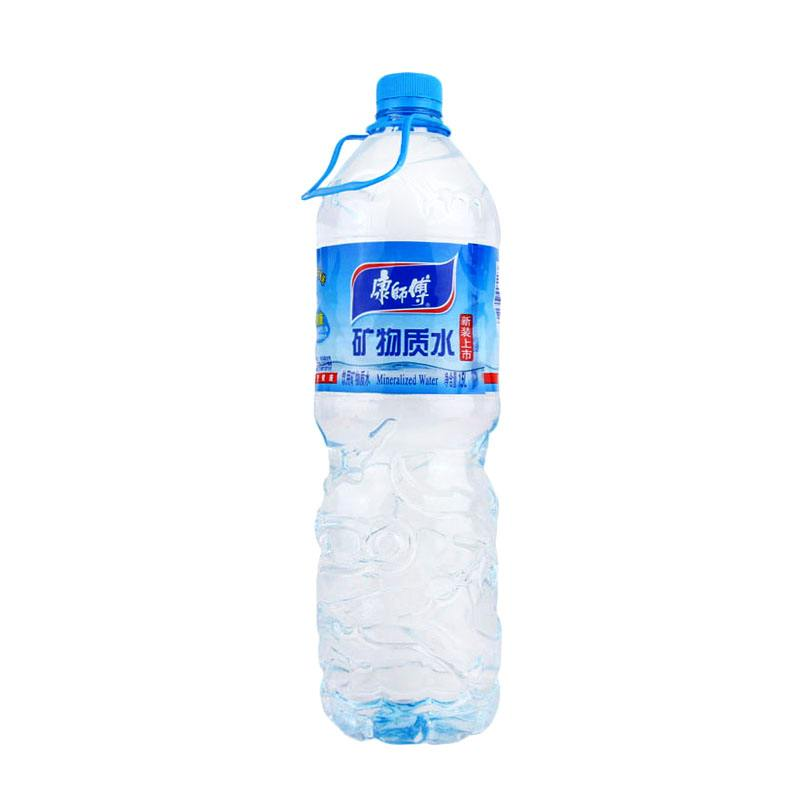amwater: (261, 65, 542, 761)
